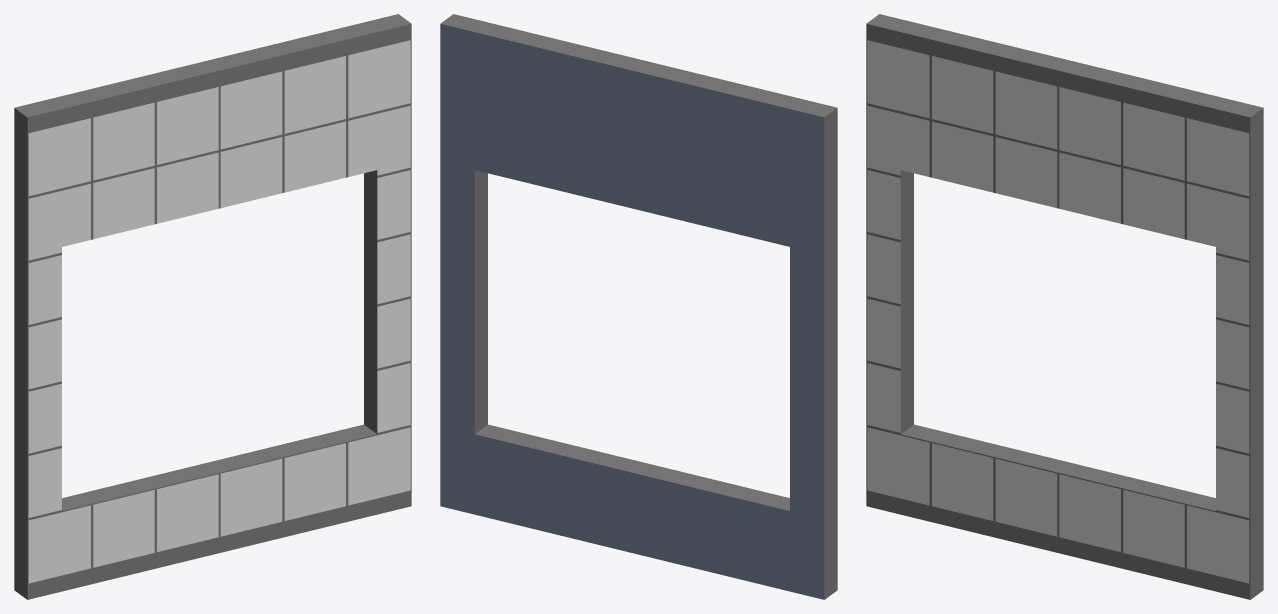
File: Wall3_C7_05.fbx
3 views of the same model, side by side, from view 1: azimuth 30°, elevation 25°; view 2: azimuth 150°, elevation 25°; view 3: azimuth 330°, elevation 25° (orthographic).
Parts seen in each view (by area): view 1: Wall3_C7_05; view 2: Wall3_C7_05; view 3: Wall3_C7_05.
Part boxes in pixels (x1=…): Wall3_C7_05: x1=14, y1=14, x2=411, y2=599; Wall3_C7_05: x1=440, y1=14, x2=837, y2=599; Wall3_C7_05: x1=866, y1=14, x2=1263, y2=599.
Bounding box in the file's own units: 250 × 300 × 15.
